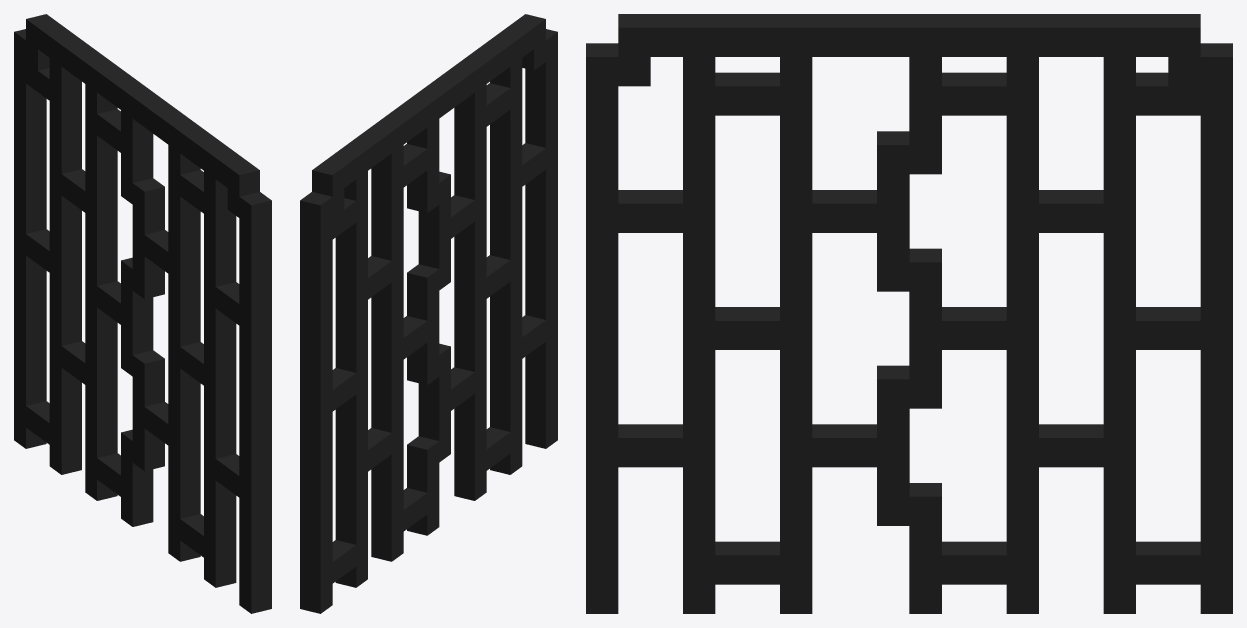
Rendered from Gate.obj.
3 renders of one model, left to right at view 1: azimuth 30°, elevation 25°; view 2: azimuth 150°, elevation 25°; view 3: azimuth 270°, elevation 25°, orthographic. The views are drawn at different scales.
Size of the model in its own units: 0.1 by 2 by 2.
Materials: 1 (1 with a texture image).
